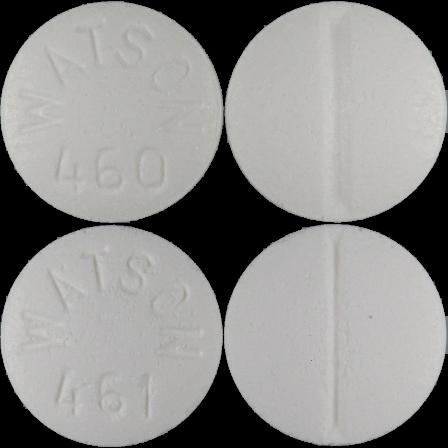21695-469: (0, 0, 224, 224)
